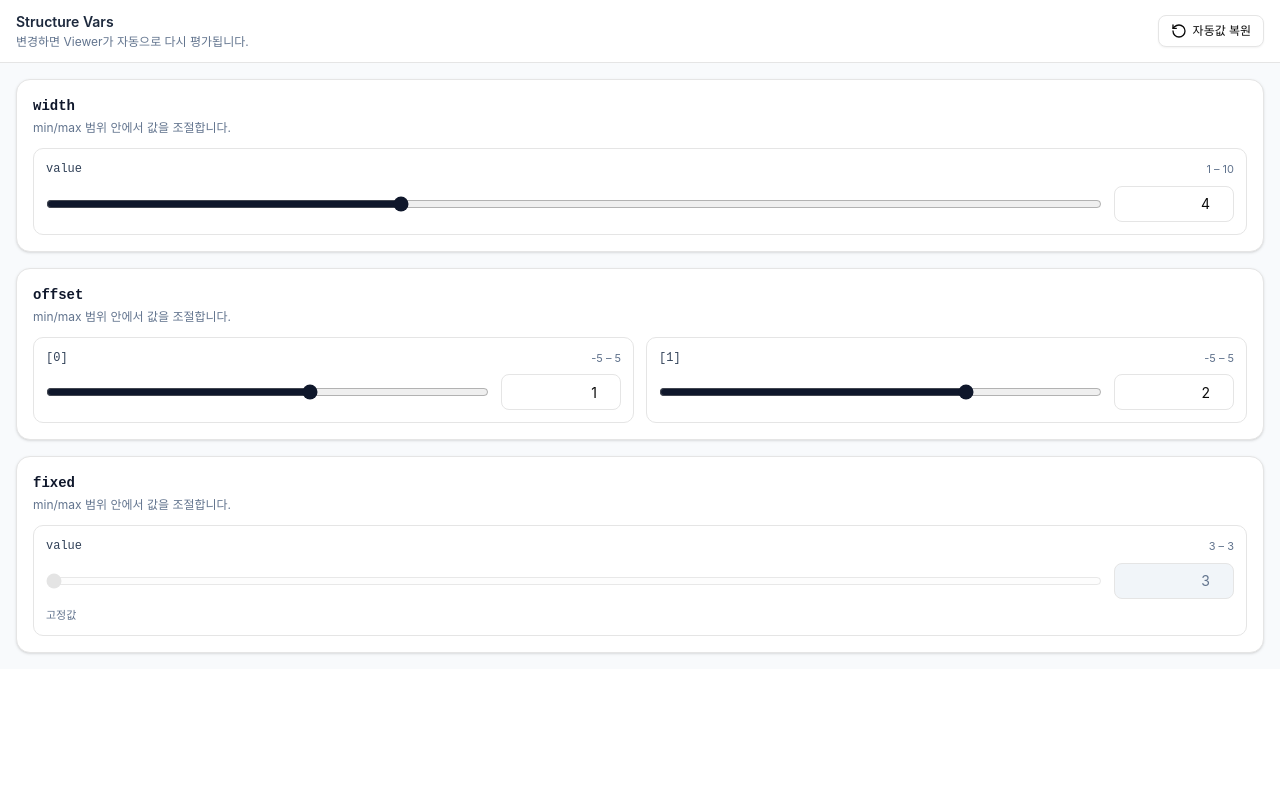
Scenario: VarsControls › keeps invalid numbers local and does not request evaluation
Replace the text in the number field named "width 숫자 입력" with "20": point(1174, 204) [1114, 186, 1234, 222]
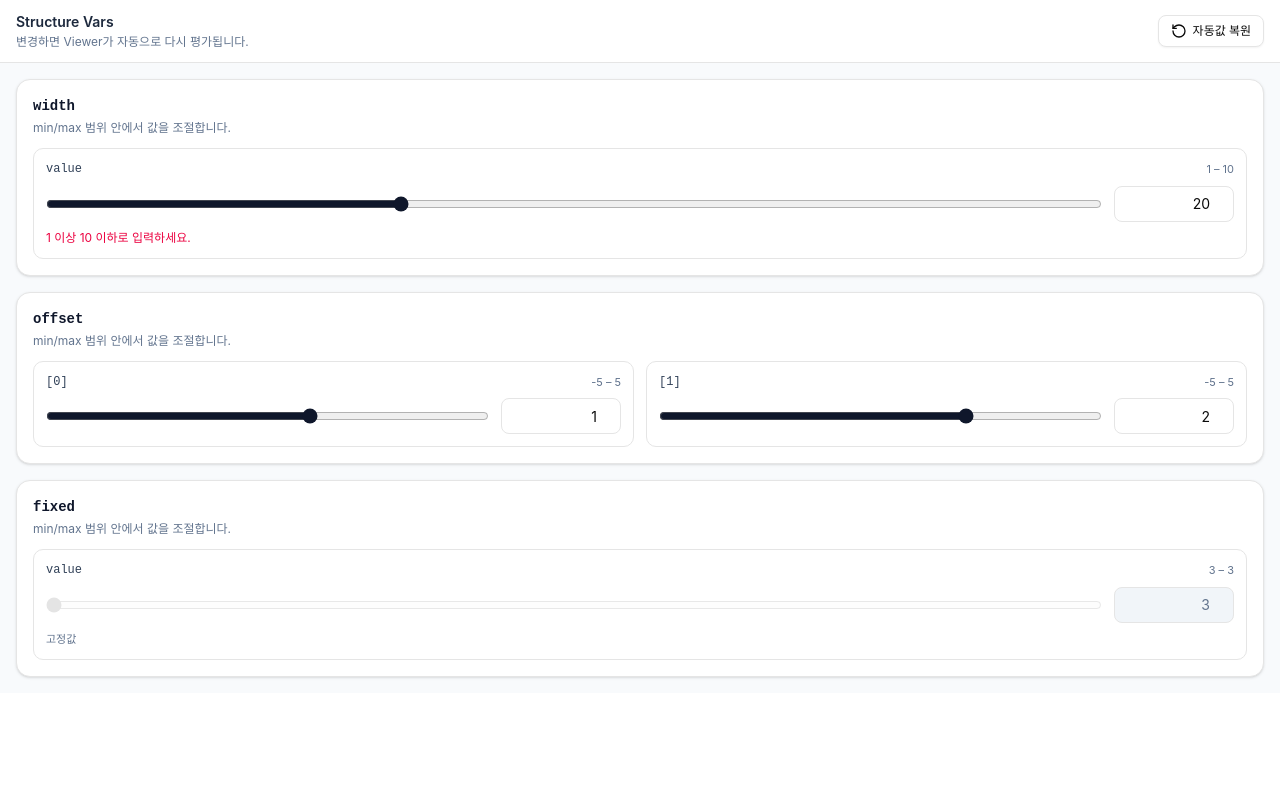
Result: the message reads "1 이상 10 이하로 입력하세요." at [46, 230, 191, 244]
